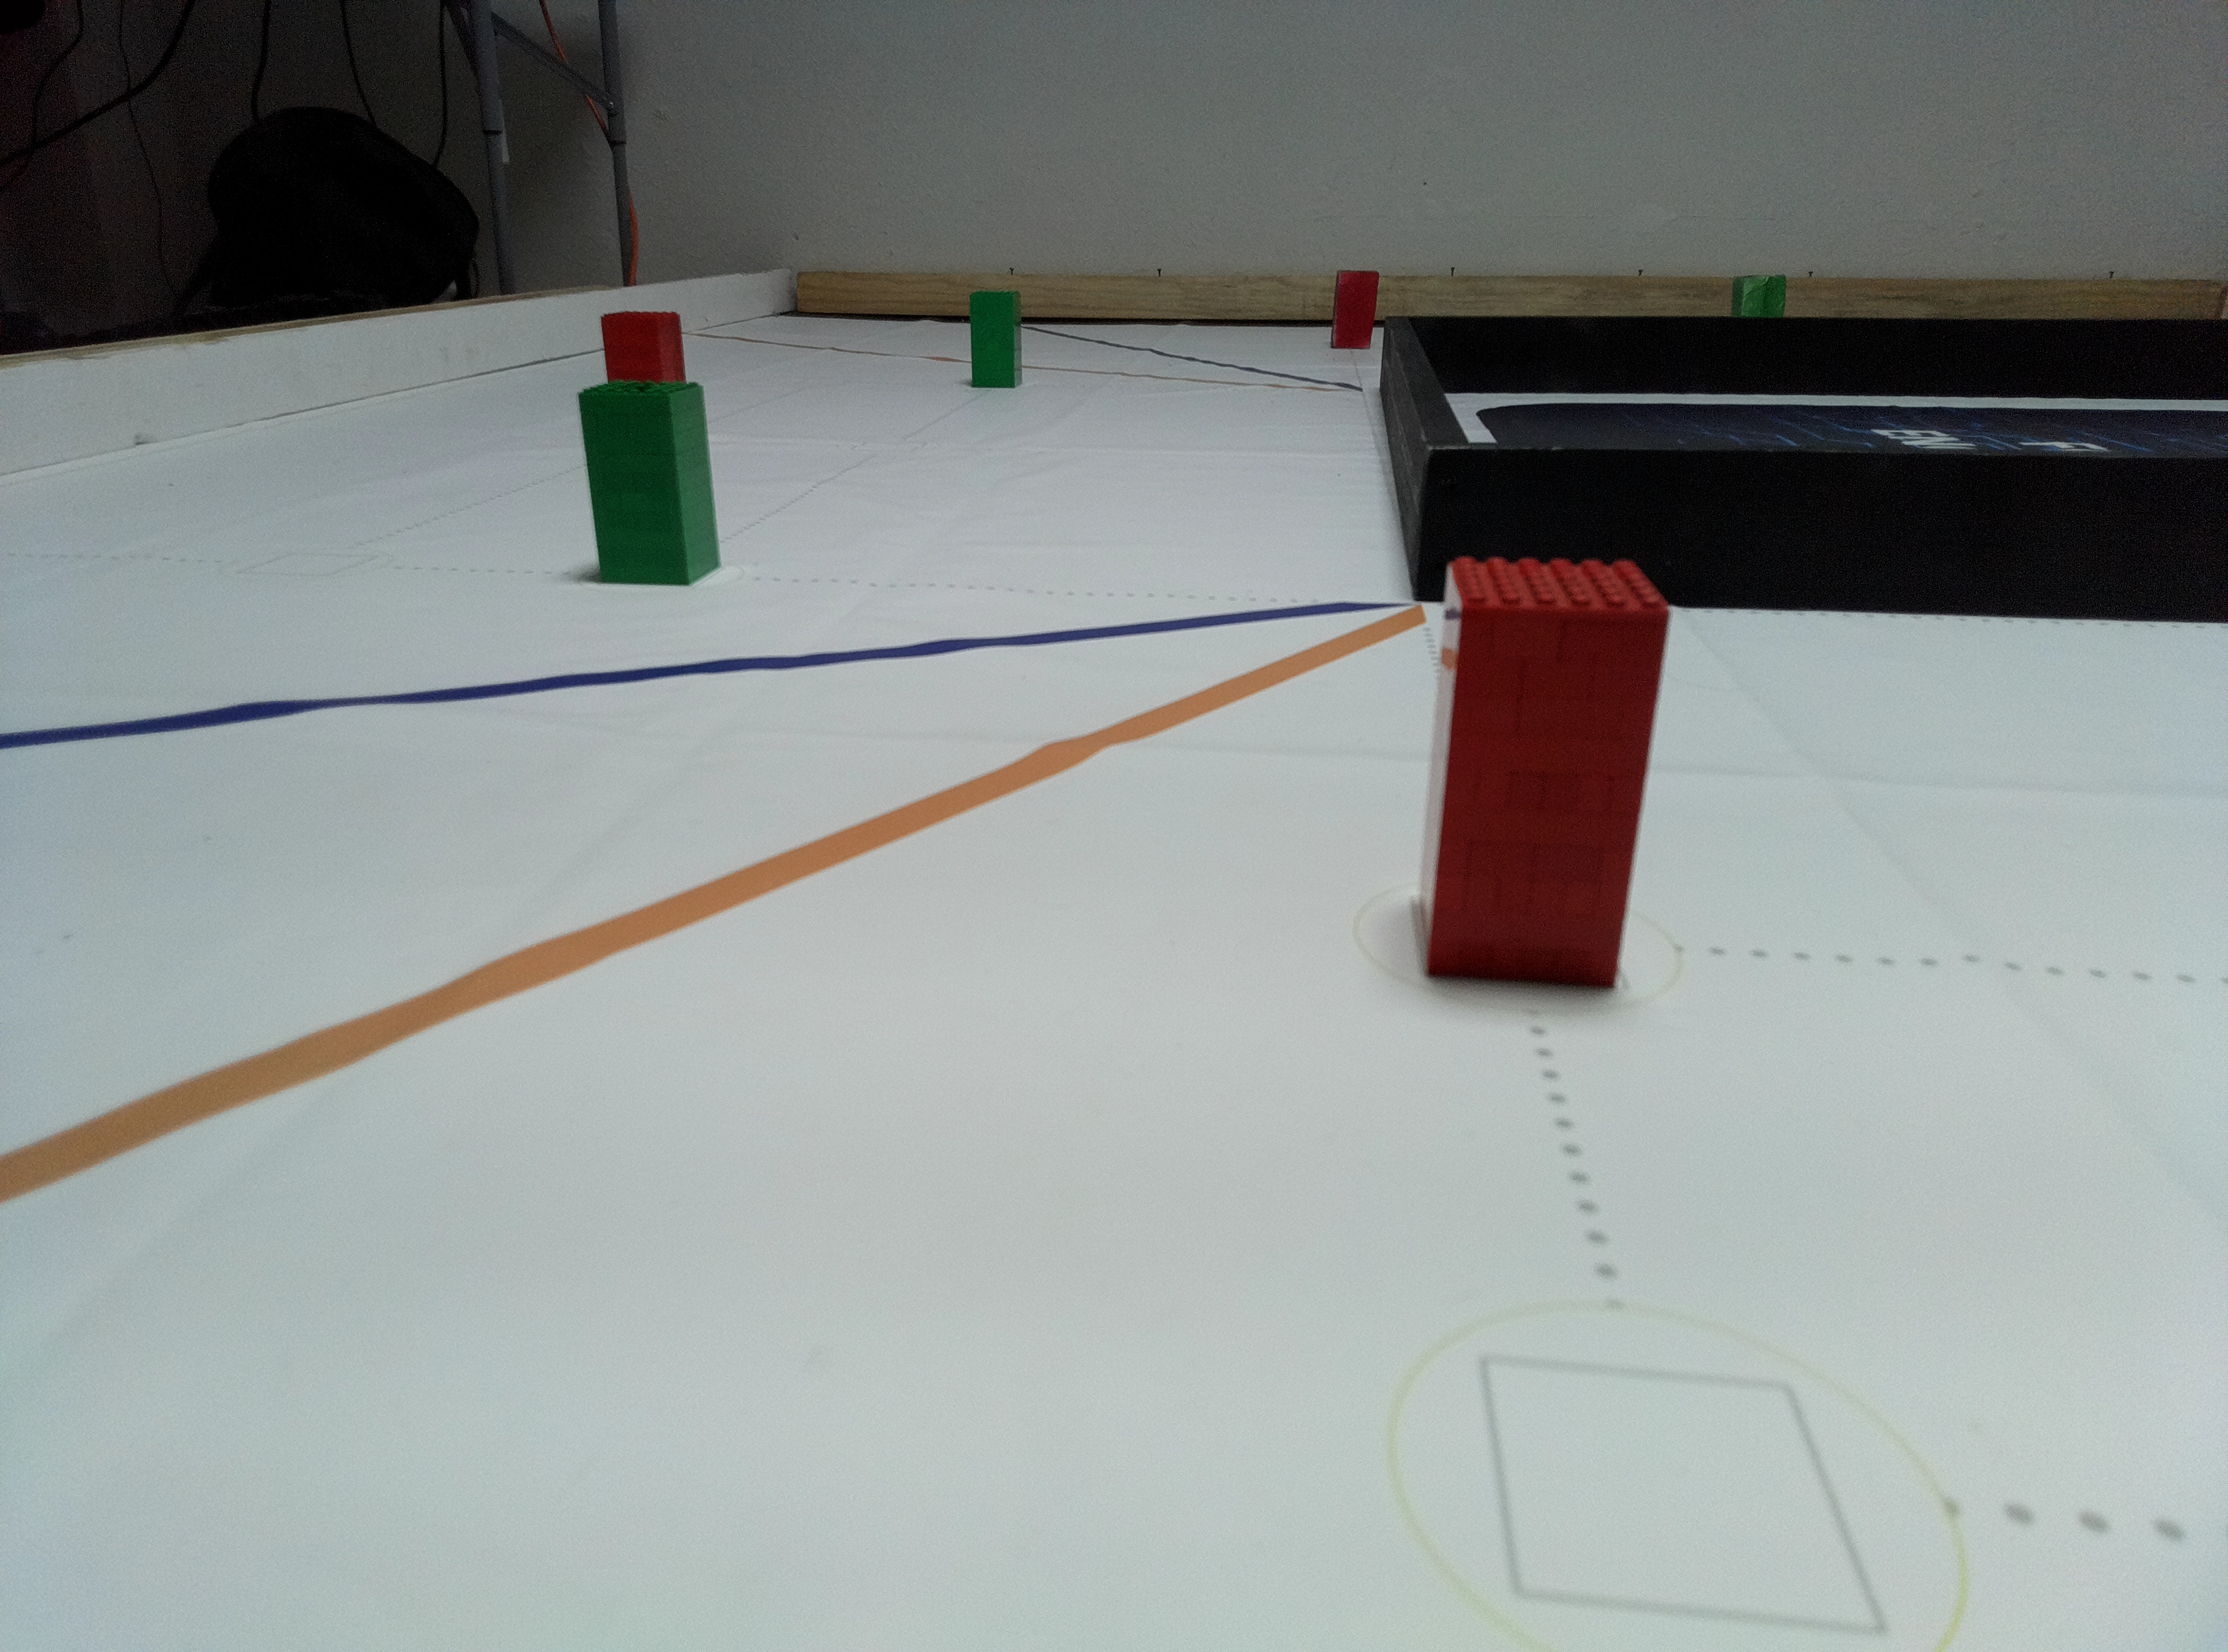greenbox: (575, 380, 725, 587), (968, 289, 1023, 390), (1732, 273, 1788, 317)
redbox: (1407, 554, 1678, 994), (597, 309, 689, 381), (1330, 268, 1381, 351)
